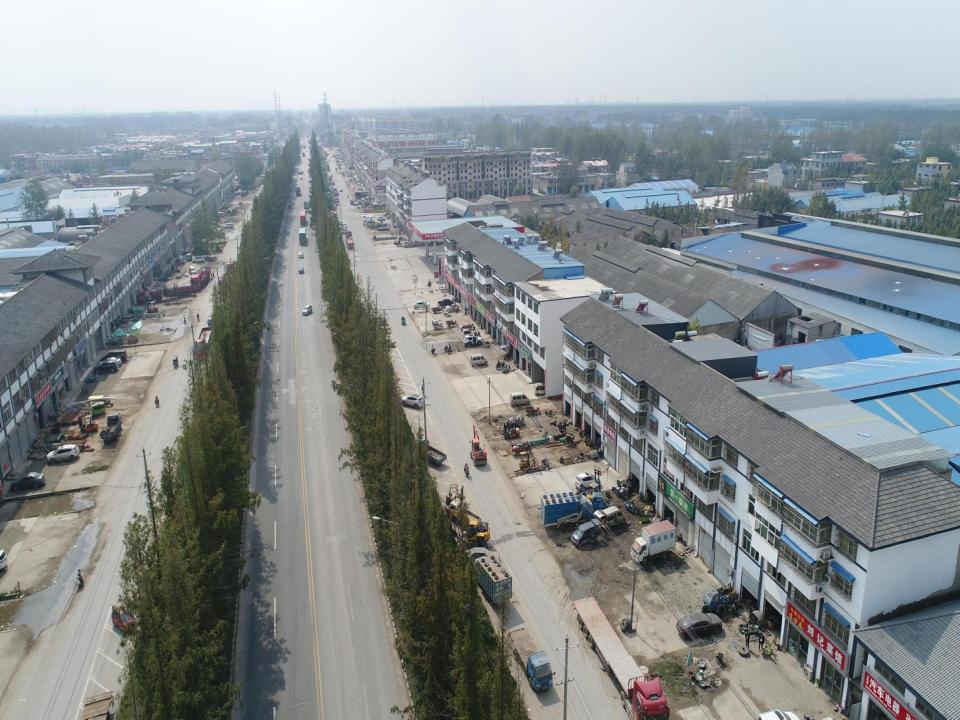car: (676, 613, 723, 641), (458, 544, 501, 570), (109, 606, 138, 636), (8, 472, 46, 490), (46, 445, 80, 463), (573, 469, 601, 489), (400, 392, 423, 411), (92, 359, 120, 373), (98, 356, 122, 371), (379, 333, 396, 346), (462, 334, 481, 345), (413, 300, 430, 310), (301, 304, 314, 316), (340, 228, 350, 236), (298, 265, 305, 276), (182, 252, 190, 260), (339, 225, 348, 232), (297, 250, 304, 258), (366, 218, 375, 224), (376, 215, 386, 220), (338, 220, 346, 226), (234, 190, 241, 196), (363, 217, 371, 221), (236, 188, 242, 193), (298, 170, 304, 174), (288, 202, 292, 208), (363, 212, 366, 218), (340, 188, 343, 192)
truck: (570, 596, 670, 719), (507, 626, 556, 691), (135, 283, 200, 302), (566, 486, 606, 515), (448, 498, 484, 530), (415, 435, 447, 466), (99, 411, 122, 445), (192, 327, 214, 362), (188, 265, 211, 289), (217, 270, 236, 296), (224, 255, 242, 281), (298, 224, 307, 245), (206, 311, 217, 327), (346, 230, 354, 250), (437, 298, 456, 306), (298, 209, 308, 224), (240, 185, 250, 198), (260, 173, 268, 187), (294, 184, 302, 197), (404, 240, 416, 247), (303, 199, 309, 210), (349, 198, 355, 206), (302, 152, 305, 157)
van: (570, 518, 603, 548), (594, 506, 626, 528), (101, 350, 127, 363), (509, 391, 531, 406), (470, 353, 488, 366), (191, 254, 206, 264), (185, 251, 196, 261), (187, 266, 196, 274), (224, 222, 233, 230), (215, 211, 224, 217), (300, 175, 302, 180)
